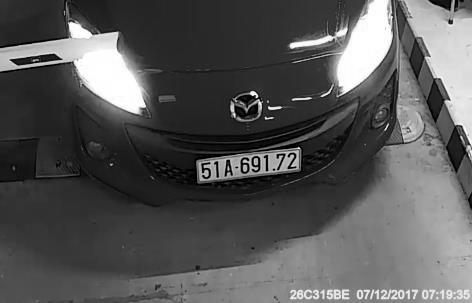License-plate: (193, 143, 304, 184)
